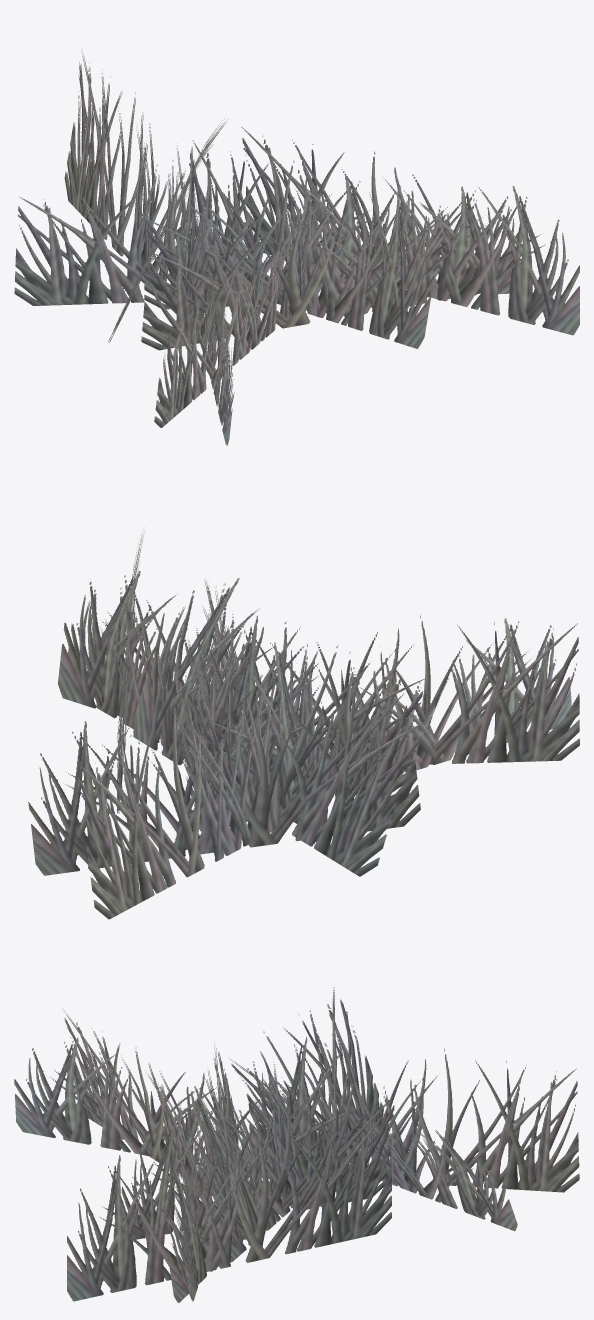
File: grass_tuft_l0.gltf
The picture shows the model from 3 angles, top to bottom: view 1: azimuth 30°, elevation 25°; view 2: azimuth 150°, elevation 25°; view 3: azimuth 270°, elevation 25°; orthographic projection. The views are drawn at different scales.
Parts seen in each view (by area): view 1: grass_tuft_l0; view 2: grass_tuft_l0; view 3: grass_tuft_l0.
Boxes of the visible parts, left/top/right/bottom form: grass_tuft_l0: left=14, top=49, right=579, bottom=445; grass_tuft_l0: left=28, top=530, right=579, bottom=919; grass_tuft_l0: left=14, top=986, right=579, bottom=1302.
Bounding box in the file's own units: 1.53 × 0.598 × 1.87.
1 material, 1 textured.
